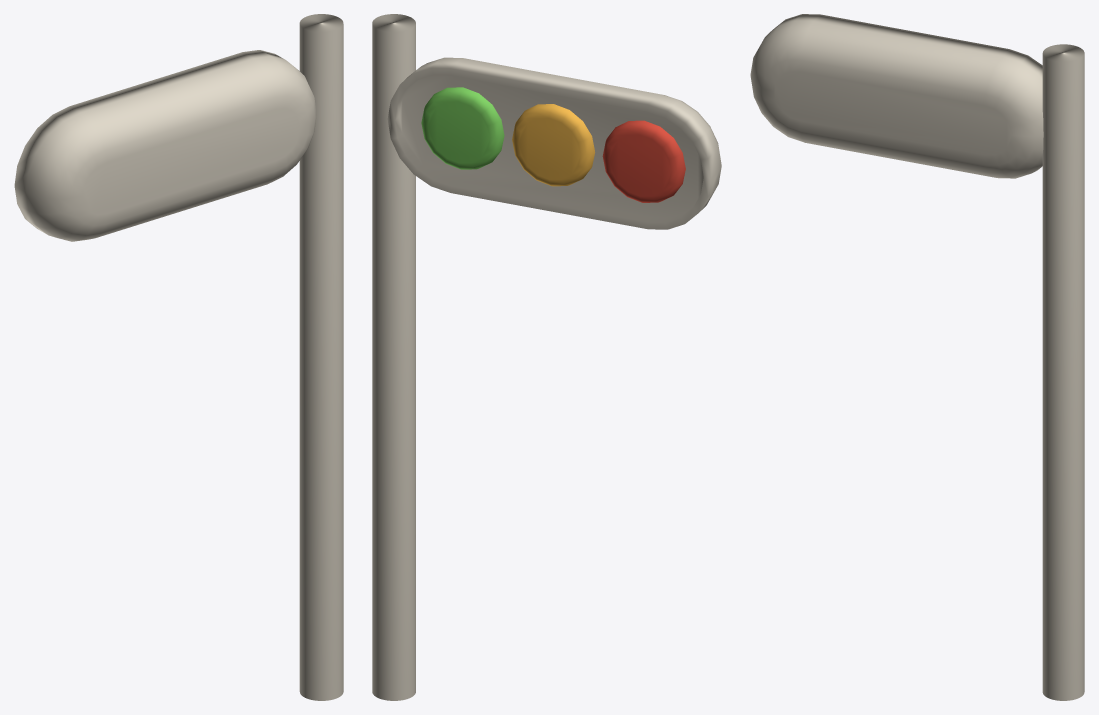
The model's file is 027_一方通行004.glb.
3 views of the same model, side by side, from view 1: azimuth 30°, elevation 25°; view 2: azimuth 150°, elevation 25°; view 3: azimuth 330°, elevation 25° (orthographic). The views are drawn at different scales.
Parts seen in each view (by area): view 1: 円柱005; view 2: 円柱005, 円柱005_3, 円柱005_1, 円柱005_2; view 3: 円柱005.
Boxes of the visible parts, x1=… form: 円柱005: x1=14, y1=14, x2=343, y2=700; 円柱005: x1=372, y1=14, x2=721, y2=700; 円柱005_3: x1=421, y1=87, x2=504, y2=169; 円柱005_1: x1=602, y1=120, x2=685, y2=202; 円柱005_2: x1=512, y1=104, x2=595, y2=186; 円柱005: x1=750, y1=14, x2=1084, y2=700.
Size of the model in its own units: 1.66 by 3.2 by 0.41.
